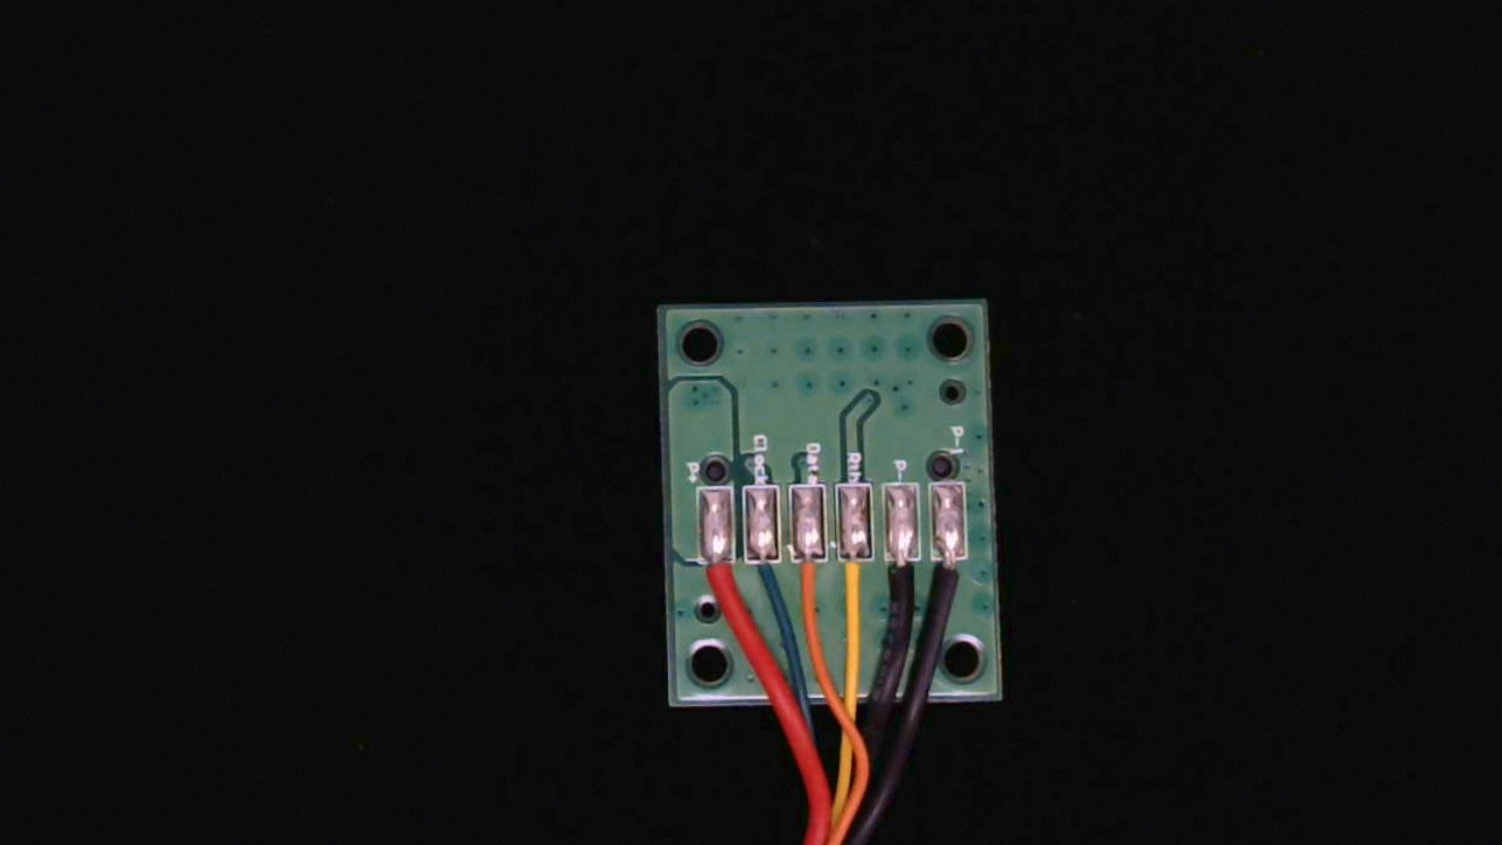Black: (880, 535, 921, 625)
Black1: (934, 535, 974, 618)
Green: (742, 544, 784, 605)
Orange: (787, 541, 827, 628)
Red: (695, 538, 738, 623)
Yellow: (832, 540, 875, 629)
